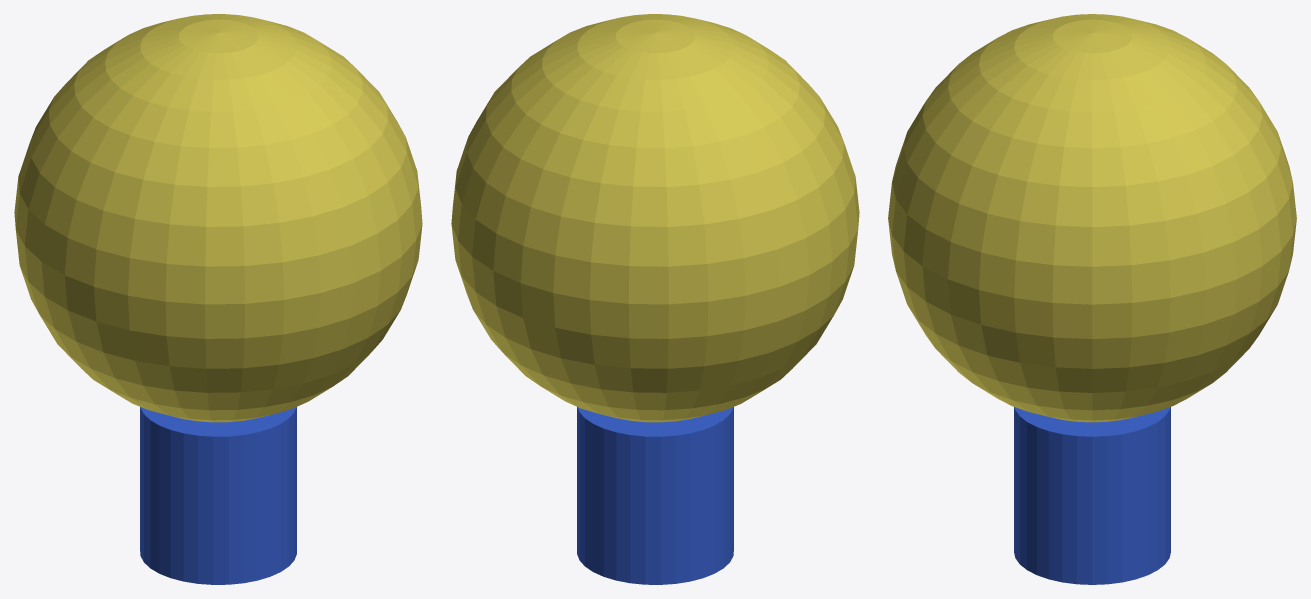
Rendered from head.dae.
3 views of the same model, side by side, from view 1: azimuth 30°, elevation 25°; view 2: azimuth 150°, elevation 25°; view 3: azimuth 270°, elevation 25° (orthographic).
Visible parts, largest first — view 1: Cylinder; view 2: Cylinder; view 3: Cylinder.
Part boxes in pixels (x1,y1,x2,y2): Cylinder: (14, 14, 422, 584); Cylinder: (451, 14, 859, 584); Cylinder: (888, 14, 1296, 584).
Bounding box in the file's own units: 0.208 × 0.208 × 0.2912.
